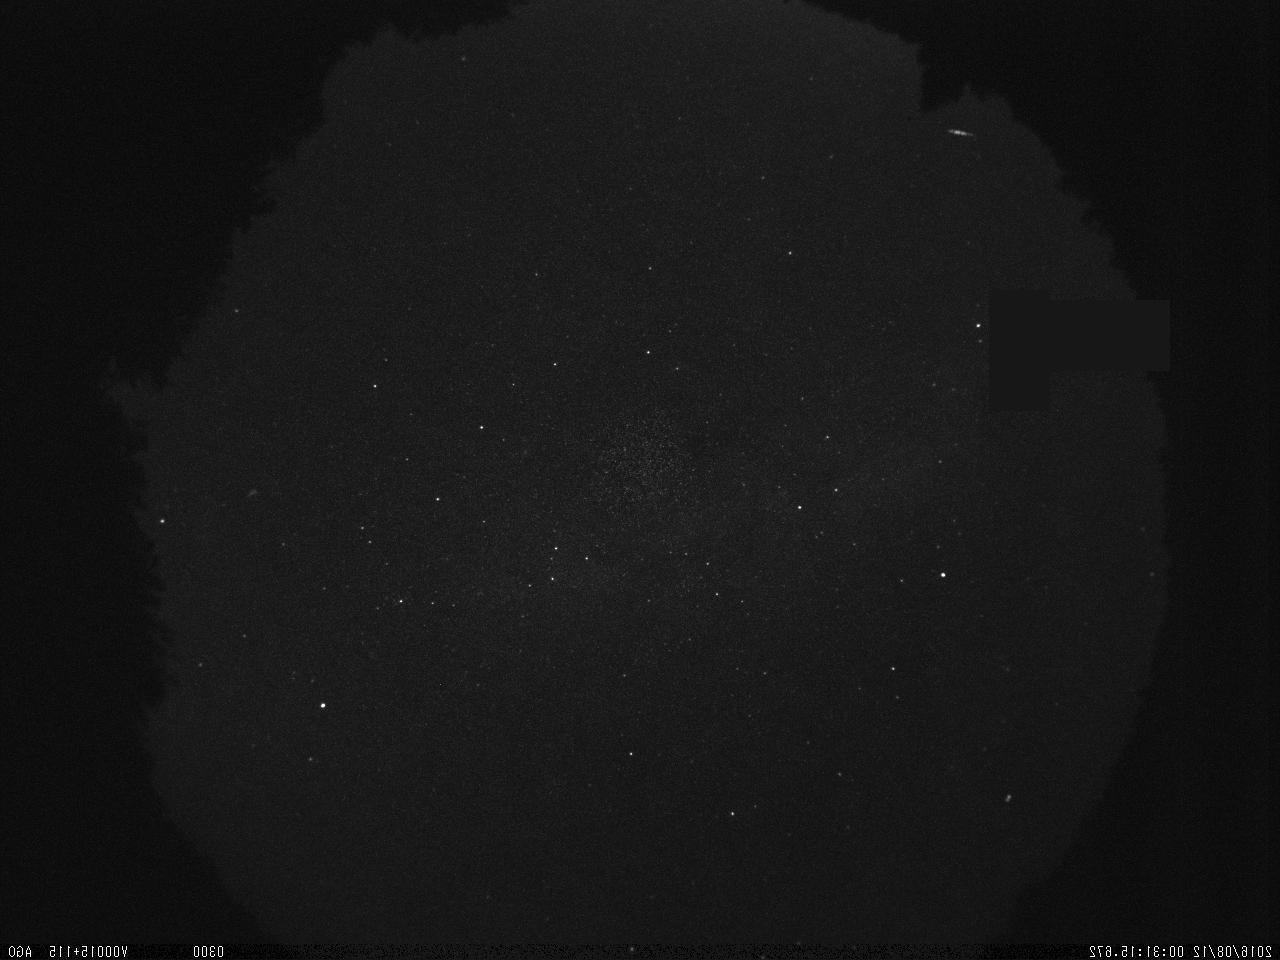meteor: (943, 122, 983, 145)
